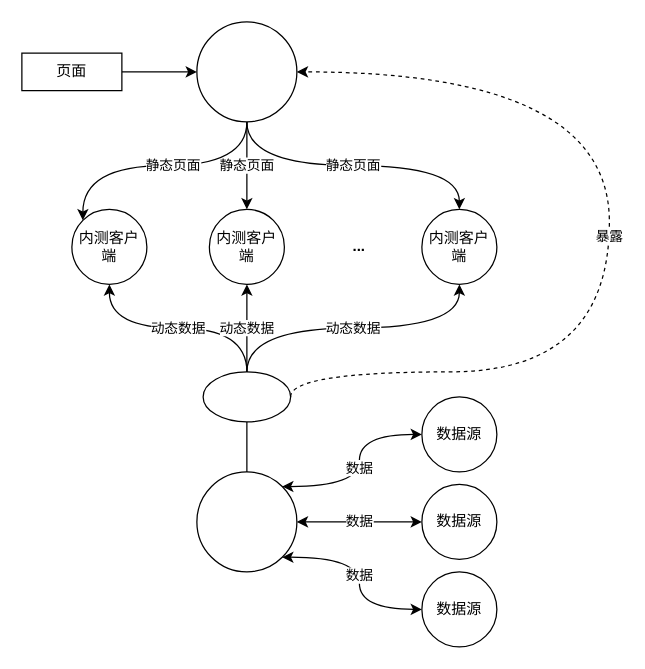
Some shapes in this 645 by 669 pixel diagram are drawn without their labels. The box of each missing label's shape, as (x1, y1, x2, y2) in pixels:
前端服务器: (196, 21, 297, 122)
后端服务器: (196, 471, 297, 572)
接口: (202, 371, 291, 422)
